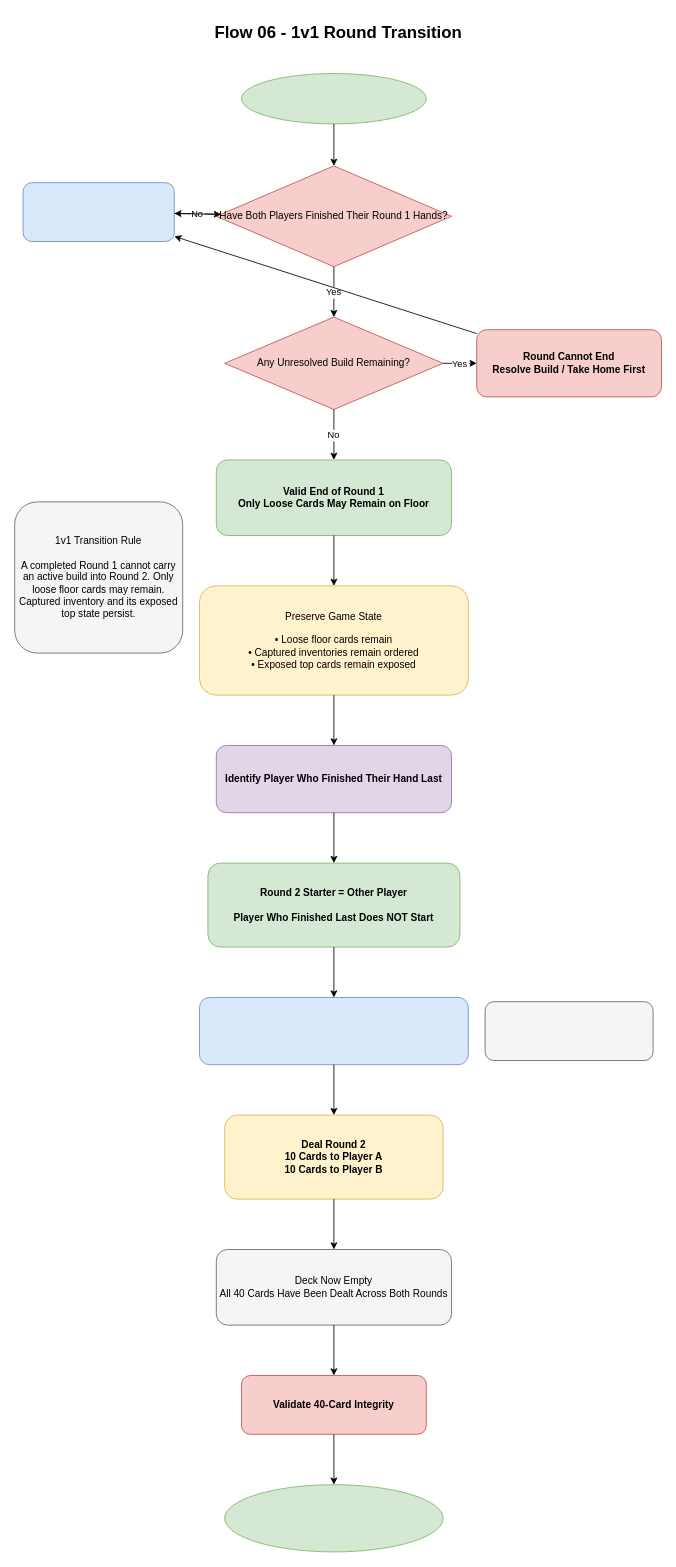
The diagram is 676 pixels wide and 1567 high, and some of its shapes have lost their labels. The shapes that lost their labels are listed below. From the top down, each one's centre as x and y in pixels, then its label:
point (333, 98): Round 1 In Progress
point (98, 212): Continue Round 1
point (333, 1031): Use Remaining 20 Cards From Original Shuffled / Cut Deck
point (568, 1030): NO Reshuffle / NO New Deck
point (333, 1518): ROUND 2 BEGINS Who was not the last player - Starter Takes First Turn
